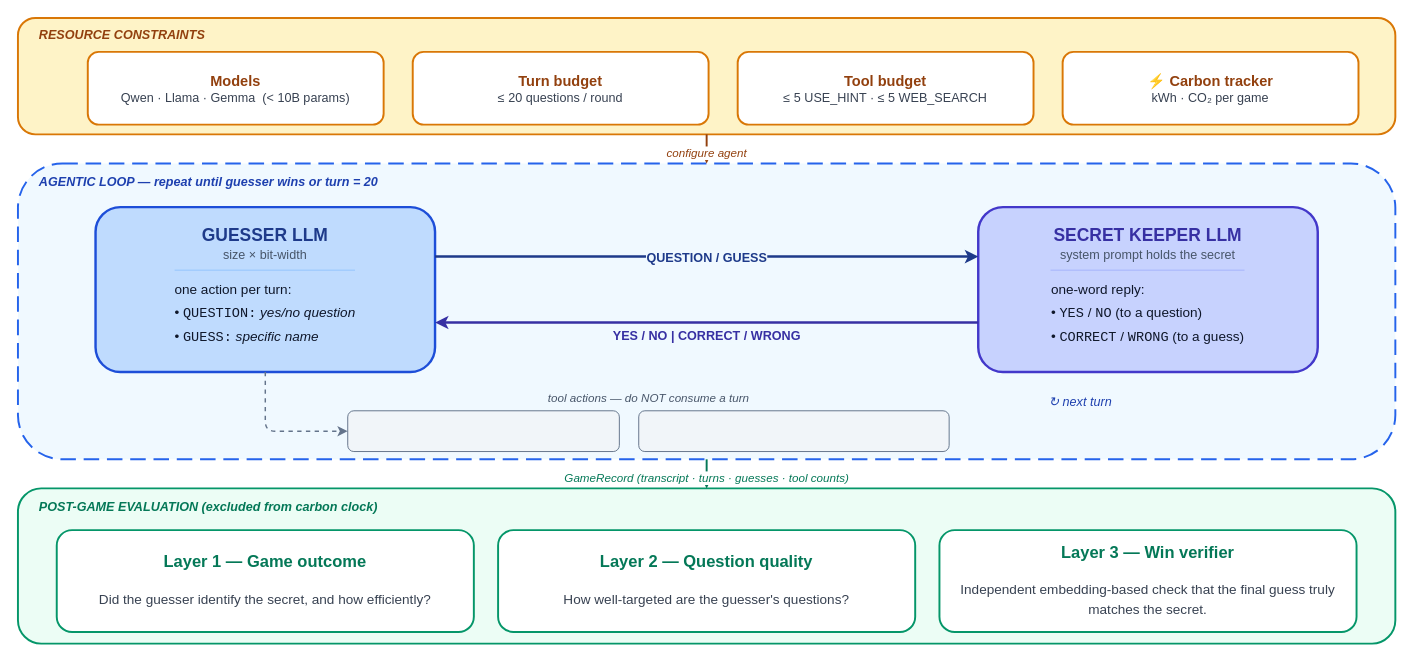
Some shapes in this 1412 by 661 pixel diagram are drawn without their labels. The centre of each missing label's shape, as x and y in pixels:
"USE_HINT → next pre-built hint (≤ 5)" belongs at [483,431].
"WEB_SEARCH: ⟨q⟩ → DuckDuckGo snippet (≤ 5)" belongs at [793,431].
